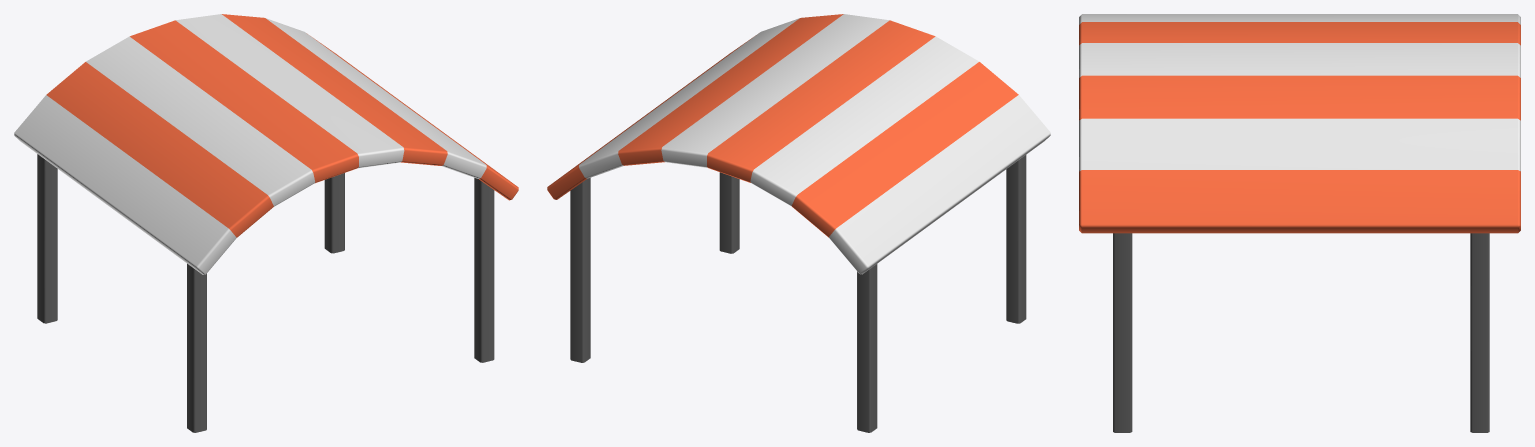
The model's file is attraction_entrance_003.gltf.
The picture shows the model from 3 angles, left to right: view 1: azimuth 30°, elevation 25°; view 2: azimuth 150°, elevation 25°; view 3: azimuth 270°, elevation 25°; orthographic projection. The views are drawn at different scales.
Parts seen in each view (by area): view 1: attraction_entrance_003; view 2: attraction_entrance_003; view 3: attraction_entrance_003.
Boxes of the visible parts, bbox=[...] form: attraction_entrance_003: bbox=[14, 14, 518, 432]; attraction_entrance_003: bbox=[547, 14, 1050, 432]; attraction_entrance_003: bbox=[1079, 14, 1520, 432].
Bounding box in the file's own units: 6.23 × 4.66 × 6.18.
Materials: 1 (1 with a texture image).
